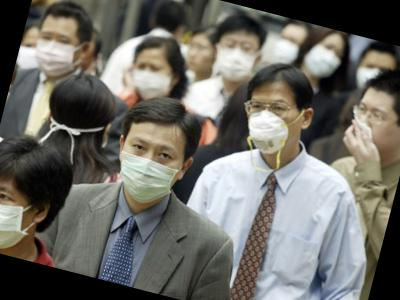with_mask: (109, 129, 189, 212), (239, 91, 307, 159), (29, 24, 87, 83), (209, 32, 262, 88), (125, 55, 179, 107), (301, 34, 348, 84), (350, 54, 396, 98), (270, 29, 305, 68), (15, 37, 43, 74)
without_mask: (344, 96, 400, 160), (183, 38, 218, 75)
